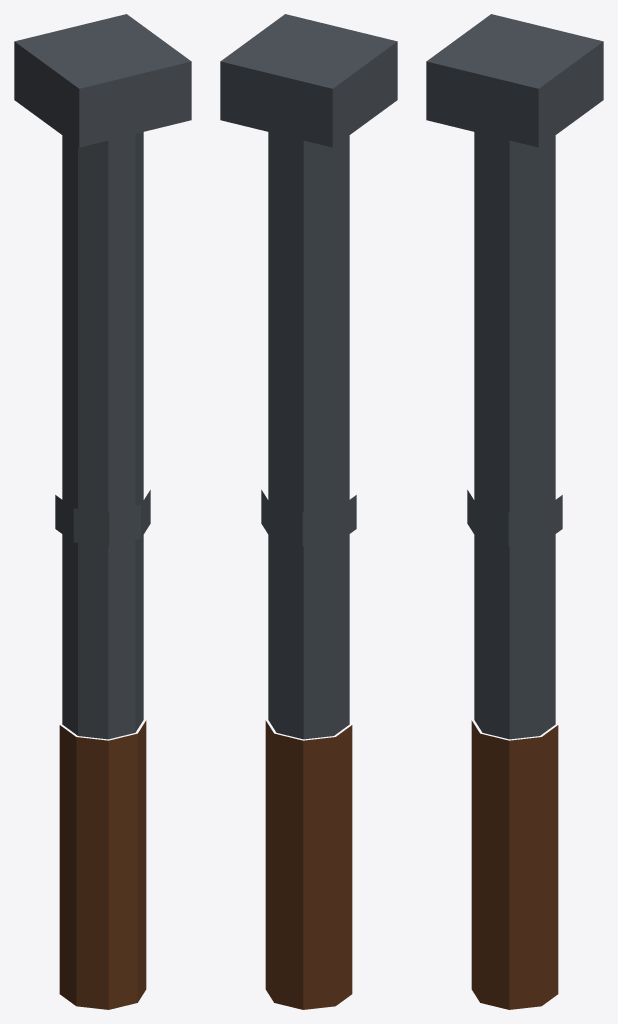
The model's file is steel-pile.glb.
The picture shows the model from 3 angles, left to right: view 1: azimuth 30°, elevation 25°; view 2: azimuth 150°, elevation 25°; view 3: azimuth 330°, elevation 25°; orthographic projection.
Parts seen in each view (by area): view 1: steel-pile; view 2: steel-pile; view 3: steel-pile.
Part boxes in pixels (bbox=[...]): steel-pile: bbox=[14, 14, 191, 1009]; steel-pile: bbox=[220, 14, 397, 1009]; steel-pile: bbox=[426, 14, 603, 1009].
Size of the model in its own units: 0.24 by 1.92 by 0.24.
